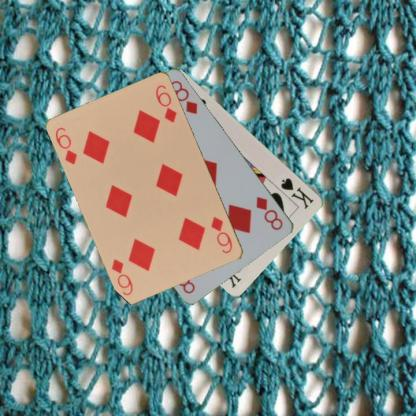6d: (53, 125, 79, 166), (209, 214, 234, 255)
8d: (254, 194, 284, 232)
Ks: (278, 175, 315, 210)
